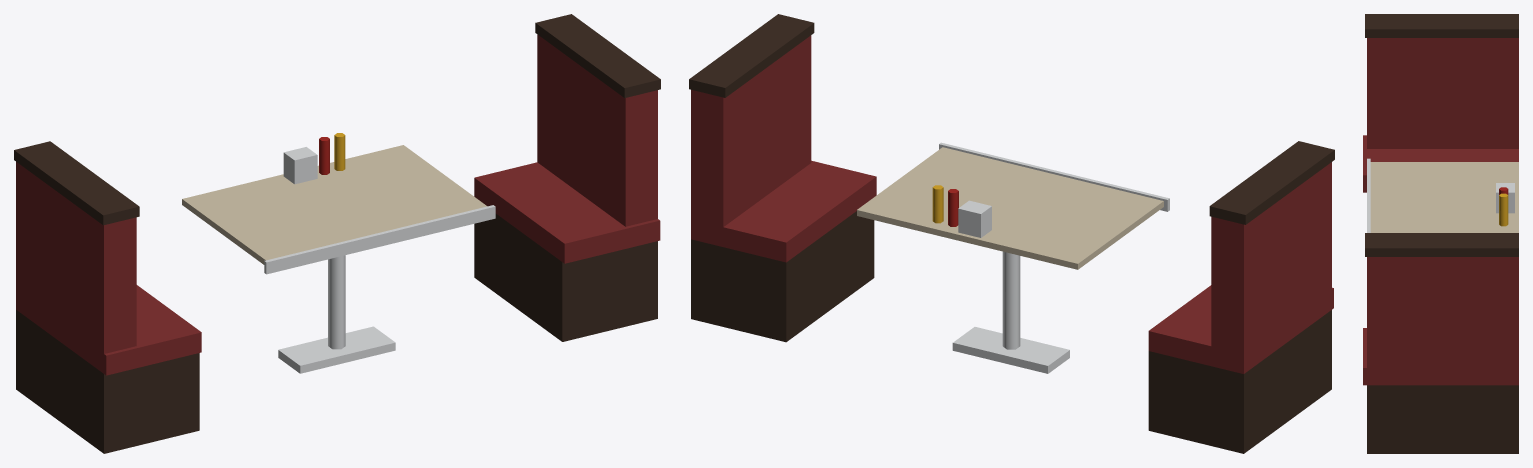
Rendered from booth.glb.
3 views of the same model, side by side, from view 1: azimuth 30°, elevation 25°; view 2: azimuth 150°, elevation 25°; view 3: azimuth 270°, elevation 25° (orthographic). The views are drawn at different scales.
Visible parts, largest first — view 1: booth; view 2: booth; view 3: booth.
Boxes of the visible parts, x1,y1,x2,y2 form: booth: [14, 14, 660, 453]; booth: [689, 14, 1334, 453]; booth: [1363, 14, 1518, 453].
Bounding box in the file's own units: 2.92 × 1.2 × 0.82.
1 material, 1 textured.
